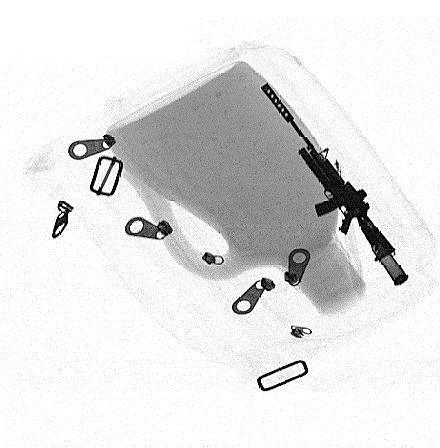Bullet: (358, 217, 410, 283)
Gun: (259, 81, 398, 263)
